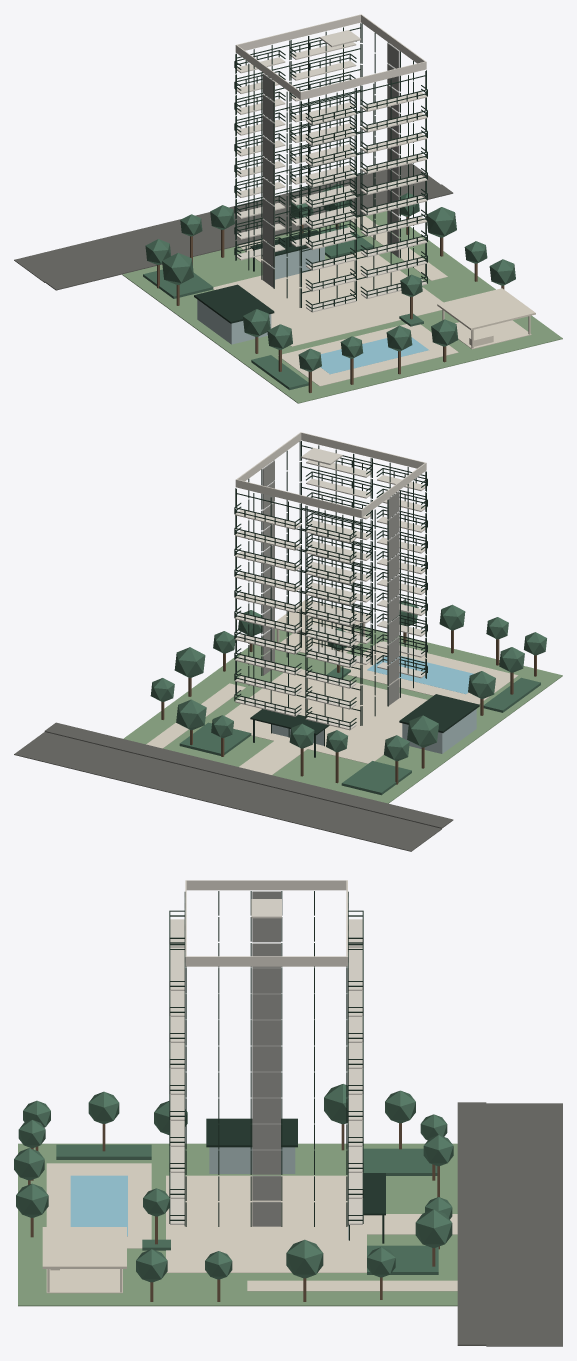
File: residencial-vista-detalhes.glb
The picture shows the model from 3 angles, top to bottom: view 1: azimuth 30°, elevation 25°; view 2: azimuth 150°, elevation 25°; view 3: azimuth 270°, elevation 25°; orthographic projection. The views are drawn at different scales.
Visible parts, largest first — view 1: VIS__VARANDAS, VIS__TERRENO, VIS__PISO, VIS__RUA, VIS__GUARDACORPO, VIS__ESQUADRIAS, VIS__ARVORES, VIS__FECHAMENTO_HALL, VIS__PLATIBANDA, AMENITY__GOURMET, VIS__JARDIM, AMENITY__PISCINA (+5 smaller); view 2: VIS__RUA, VIS__VARANDAS, VIS__TERRENO, VIS__PISO, VIS__GUARDACORPO, VIS__ESQUADRIAS, VIS__ARVORES, VIS__FECHAMENTO_HALL, VIS__PLATIBANDA, VIS__JARDIM, AMENITY__PISCINA, AMENITY__GOURMET (+4 smaller); view 3: VIS__RUA, VIS__PISO, VIS__TERRENO, VIS__ARVORES, VIS__FECHAMENTO_HALL, VIS__VARANDAS, AMENITY__GOURMET, VIS__JARDIM, VIS__PLATIBANDA, VIS__ESQUADRIAS, AMENITY__PISCINA, VIS__GUARDACORPO (+4 smaller).
Part boxes in pixels (bbox=[...]): VIS__VARANDAS: bbox=[235, 42, 427, 312]; VIS__TERRENO: bbox=[122, 211, 562, 403]; VIS__PISO: bbox=[213, 216, 458, 386]; VIS__RUA: bbox=[14, 163, 453, 290]; VIS__GUARDACORPO: bbox=[234, 39, 427, 311]; VIS__ESQUADRIAS: bbox=[235, 23, 426, 307]; VIS__ARVORES: bbox=[145, 184, 515, 371]; VIS__FECHAMENTO_HALL: bbox=[262, 43, 399, 287]; VIS__PLATIBANDA: bbox=[235, 14, 426, 99]; AMENITY__GOURMET: bbox=[437, 288, 535, 349]; VIS__JARDIM: bbox=[143, 225, 423, 390]; AMENITY__PISCINA: bbox=[320, 337, 428, 374]; VIS__RUA: bbox=[14, 722, 453, 851]; VIS__VARANDAS: bbox=[235, 460, 427, 730]; VIS__TERRENO: bbox=[123, 626, 562, 803]; VIS__PISO: bbox=[146, 641, 518, 774]; VIS__GUARDACORPO: bbox=[234, 457, 427, 729]; VIS__ESQUADRIAS: bbox=[235, 441, 426, 725]; VIS__ARVORES: bbox=[150, 600, 546, 761]; VIS__FECHAMENTO_HALL: bbox=[262, 460, 399, 705]; VIS__PLATIBANDA: bbox=[235, 432, 426, 517]; VIS__JARDIM: bbox=[179, 667, 540, 795]; AMENITY__PISCINA: bbox=[367, 655, 473, 694]; AMENITY__GOURMET: bbox=[276, 600, 369, 653]; VIS__RUA: bbox=[457, 1102, 562, 1346]; VIS__PISO: bbox=[46, 1163, 457, 1291]; VIS__TERRENO: bbox=[18, 1143, 457, 1306]; VIS__ARVORES: bbox=[14, 1084, 453, 1282]; VIS__FECHAMENTO_HALL: bbox=[252, 891, 280, 1226]; VIS__VARANDAS: bbox=[170, 919, 362, 1224]; AMENITY__GOURMET: bbox=[42, 1227, 126, 1293]; VIS__JARDIM: bbox=[56, 1144, 438, 1274]; VIS__PLATIBANDA: bbox=[185, 880, 347, 966]; VIS__ESQUADRIAS: bbox=[184, 891, 348, 1226]; AMENITY__PISCINA: bbox=[70, 1175, 127, 1236]; VIS__GUARDACORPO: bbox=[169, 910, 363, 1223].
Size of the model in its own units: 60 by 37.32 by 57.41.
